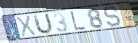3: (53, 12, 70, 33)
8: (87, 7, 105, 29)
L: (70, 10, 88, 31)
S: (103, 5, 123, 28)
U: (33, 13, 54, 36)
X: (16, 14, 37, 38)
